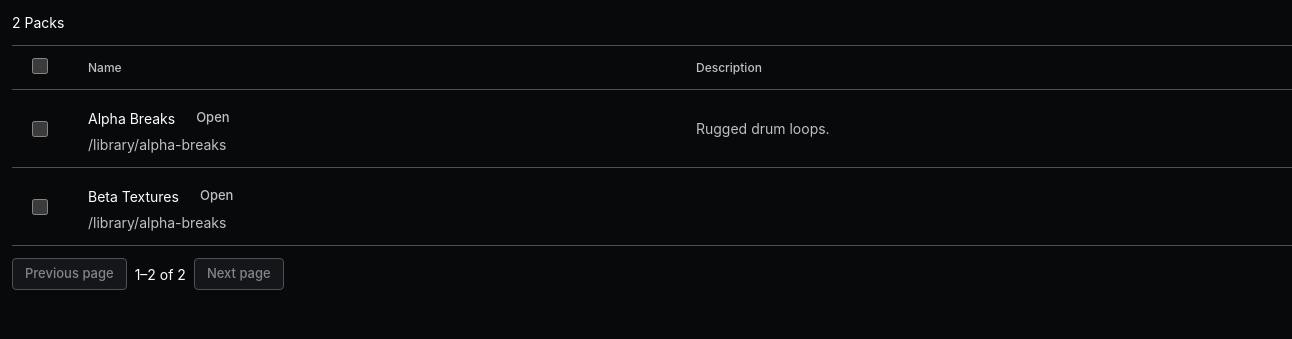
Test: selects every Pack on the current page and clears the selection
Click the checkbox named "Select all Packs on this page" at (40, 66), box [32,58,48,74]
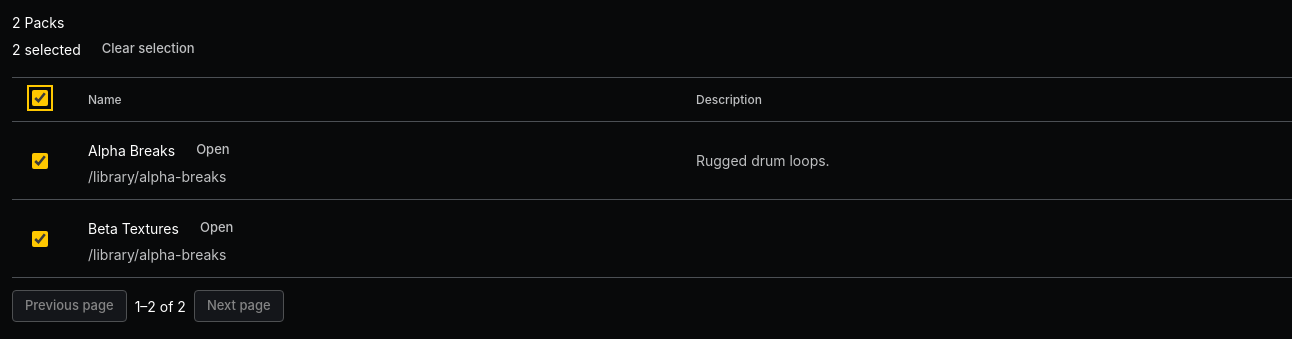
Expected: the number of checkboxes named "Select Pack " is 2, [32,152,48,168]; [32,230,48,246]
Expected: the checkbox named "Select Pack " is checked, [32,152,48,168]
Expected: the text "2 selected" is shown, [12,38,81,60]
Click the button "Clear selection" at (148, 49), box [89,33,208,65]
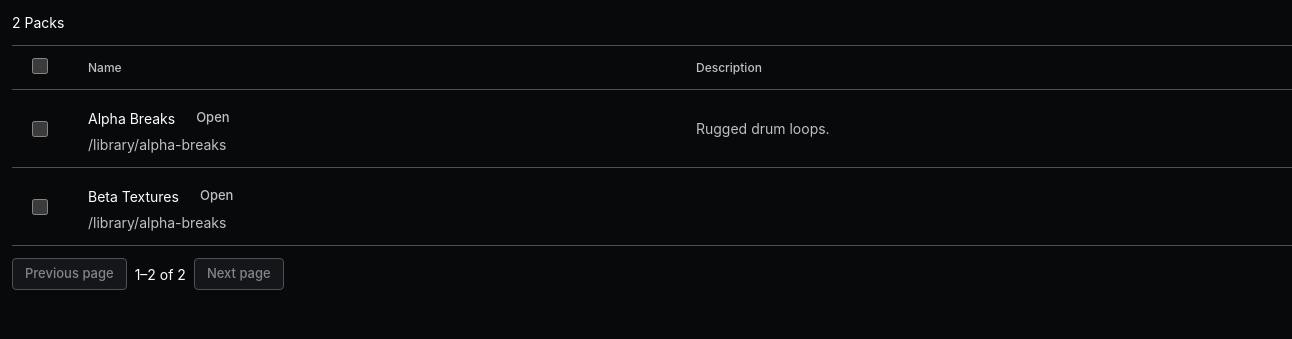
Expected: the checkbox named "Select Pack " is not checked, [32,120,48,136]
Expected: the text "2 selected" is gone
Expected: the button "Clear selection" is gone
